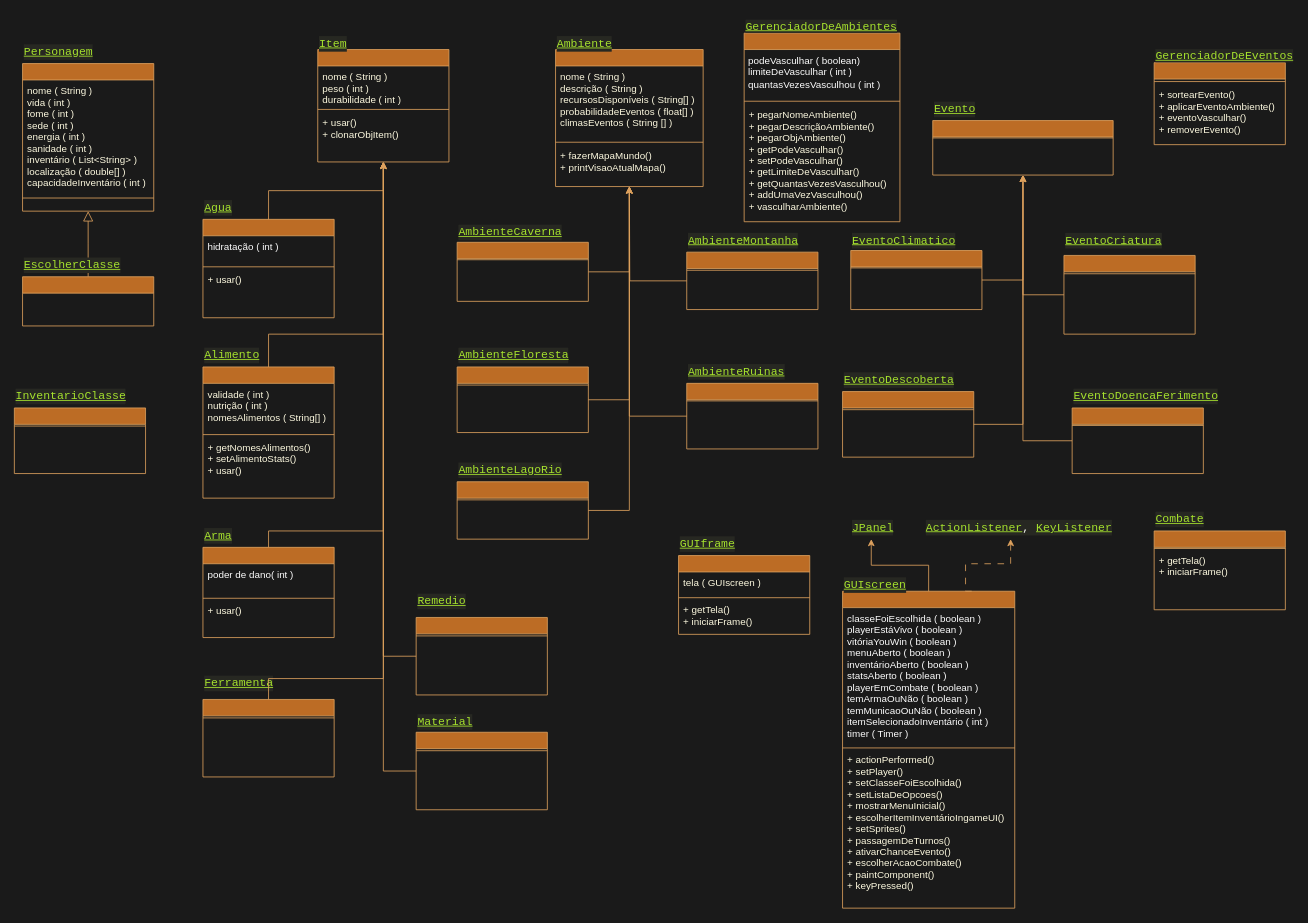
Image size: 1308x923. Some labels were removed from this diagram. Each missing label, with the box of its shape:
+ adicionarItem() + removerItem() + usarItem(): (14, 407, 146, 474)
+ executar(): (932, 120, 1113, 175)
